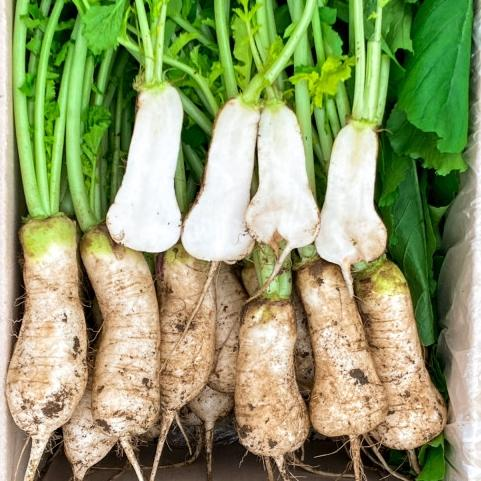radish: (231, 197, 286, 329), (178, 222, 232, 348), (193, 78, 244, 193), (95, 62, 136, 189), (119, 189, 162, 307), (248, 92, 288, 199)
